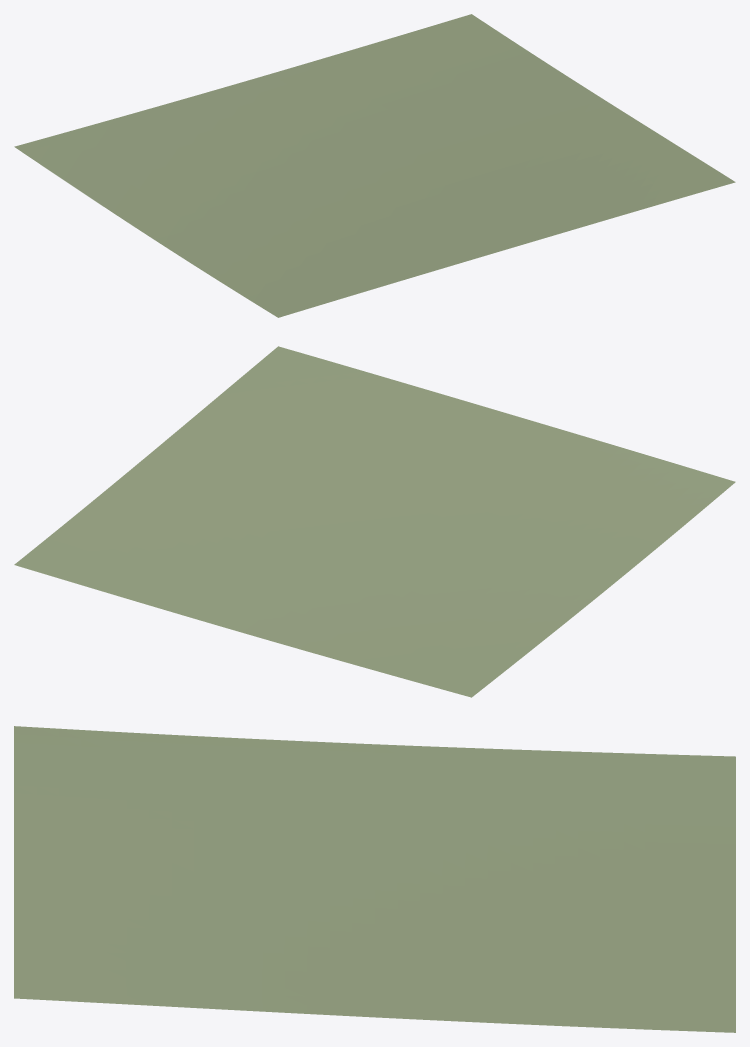
The model's file is expanse-5-23.glb.
3 views of the same model, one above another, from view 1: azimuth 30°, elevation 25°; view 2: azimuth 150°, elevation 25°; view 3: azimuth 270°, elevation 25° (orthographic). The views are drawn at different scales.
Parts seen in each view (by area): view 1: expanse-5-23; view 2: expanse-5-23; view 3: expanse-5-23.
Boxes of the visible parts, x1,y1,x2,y2 form: expanse-5-23: (14,14,735,317); expanse-5-23: (14,346,735,697); expanse-5-23: (14,726,735,1032).
Size of the model in its own units: 256 by 24.7 by 256.
